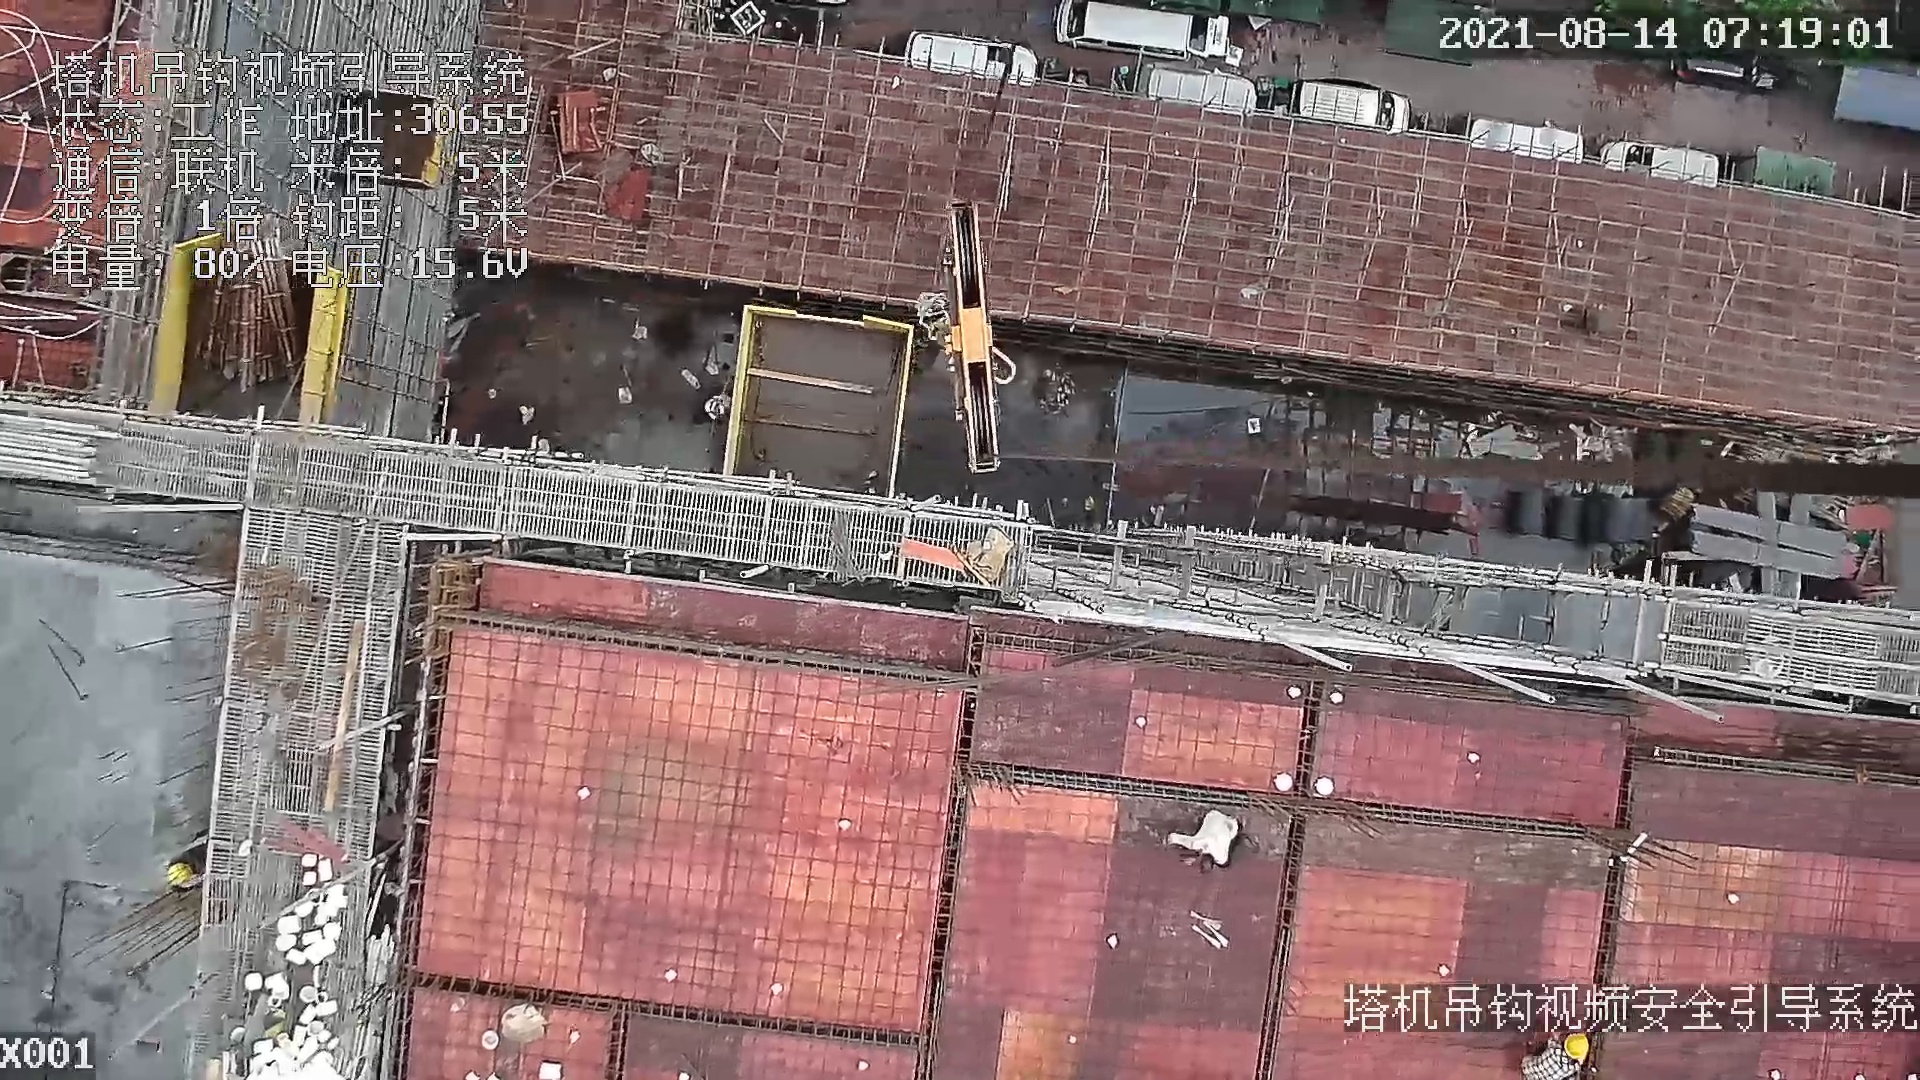helmet: (1555, 1030, 1589, 1065)
hook: (935, 203, 1026, 469)
person: (1165, 805, 1242, 872), (1522, 1022, 1591, 1080)
